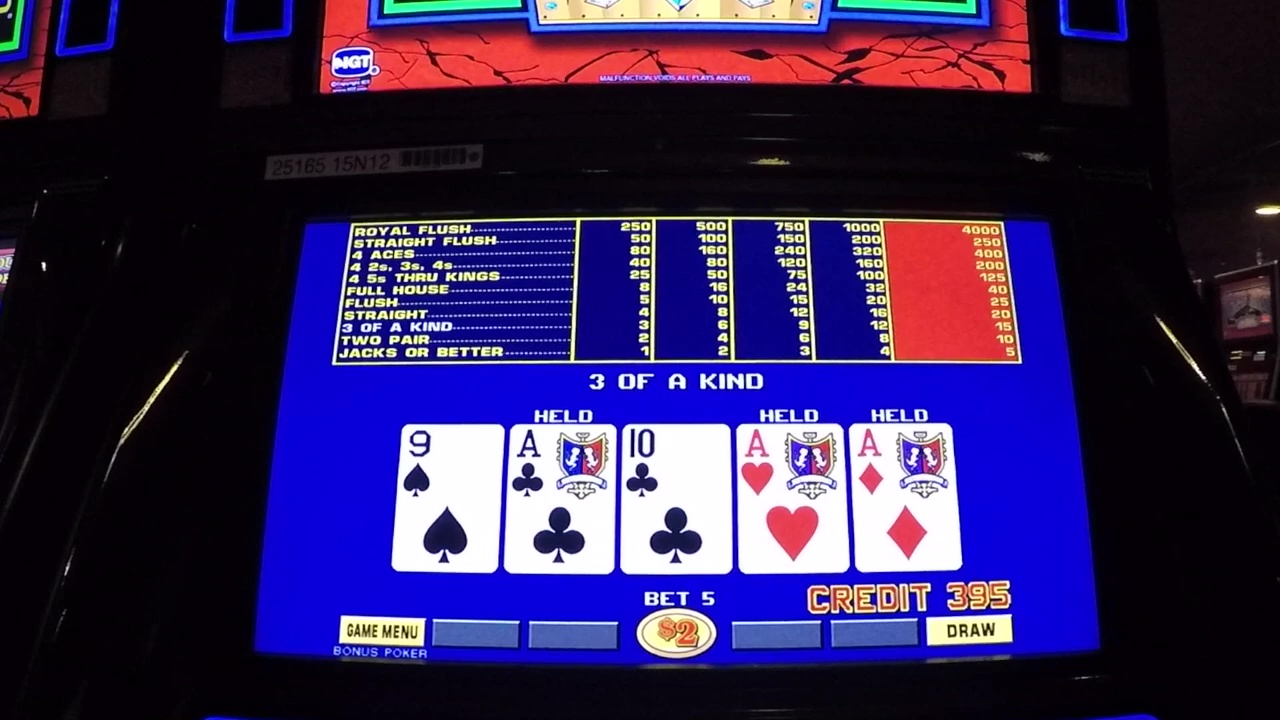CA: (510, 425, 615, 504)
CT: (620, 425, 731, 507)
DA: (852, 424, 955, 497)
HA: (735, 425, 847, 504)
S9: (402, 425, 504, 504)
